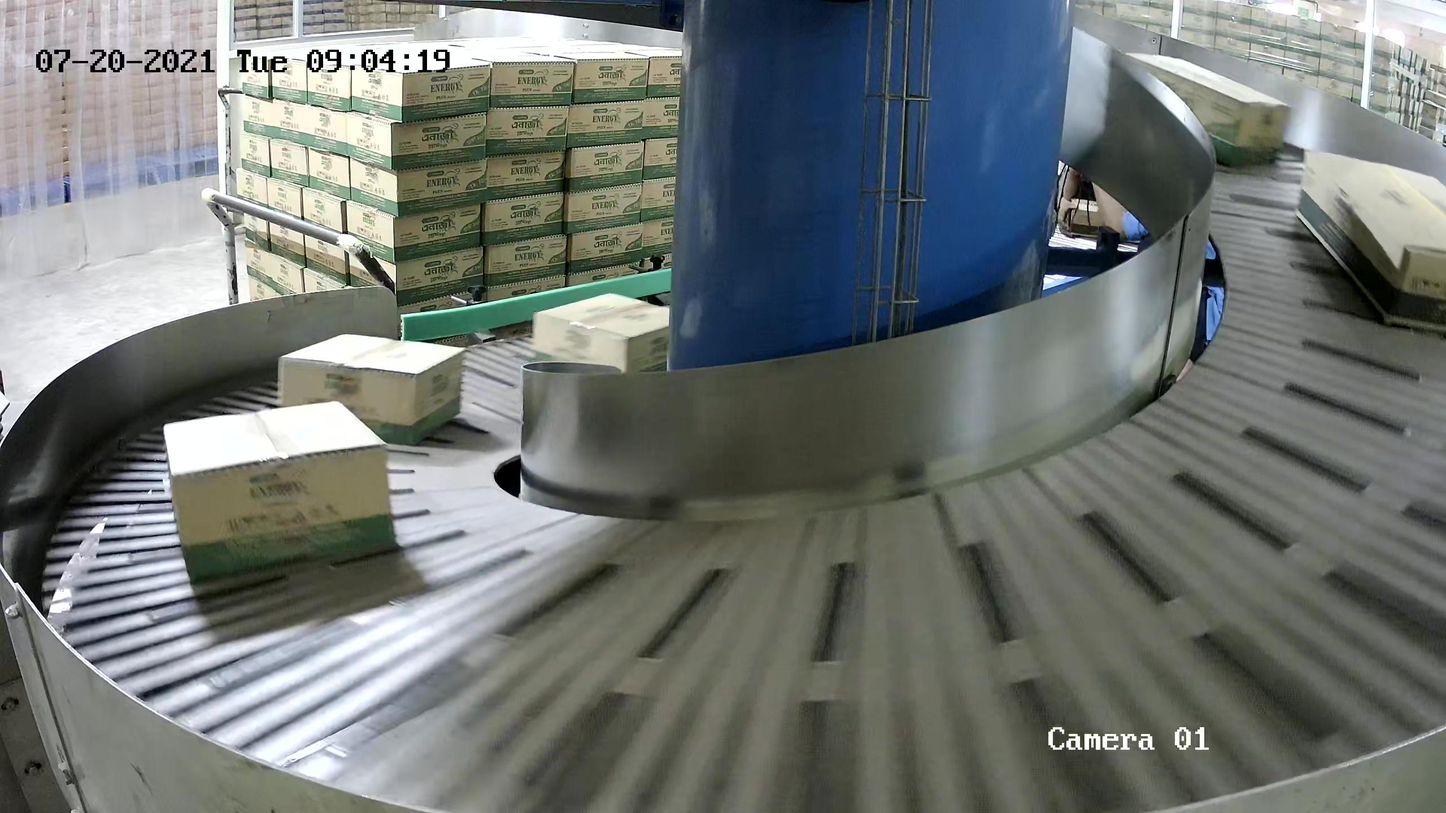Box: (163, 401, 399, 586), (1294, 145, 1446, 335), (1113, 49, 1291, 171), (276, 335, 466, 445), (530, 291, 691, 395)
